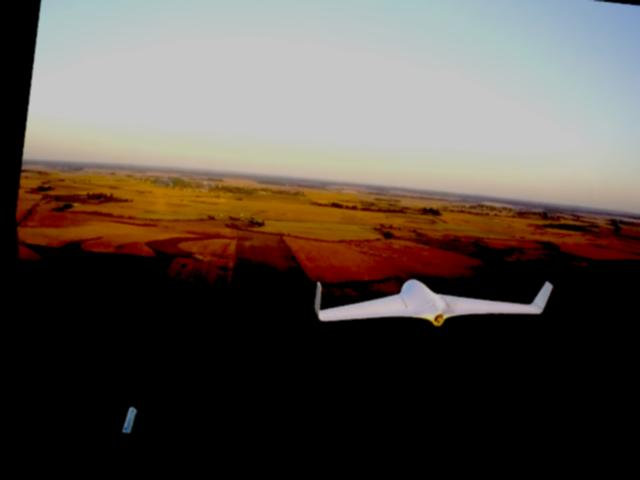plane: (302, 245, 551, 371)
